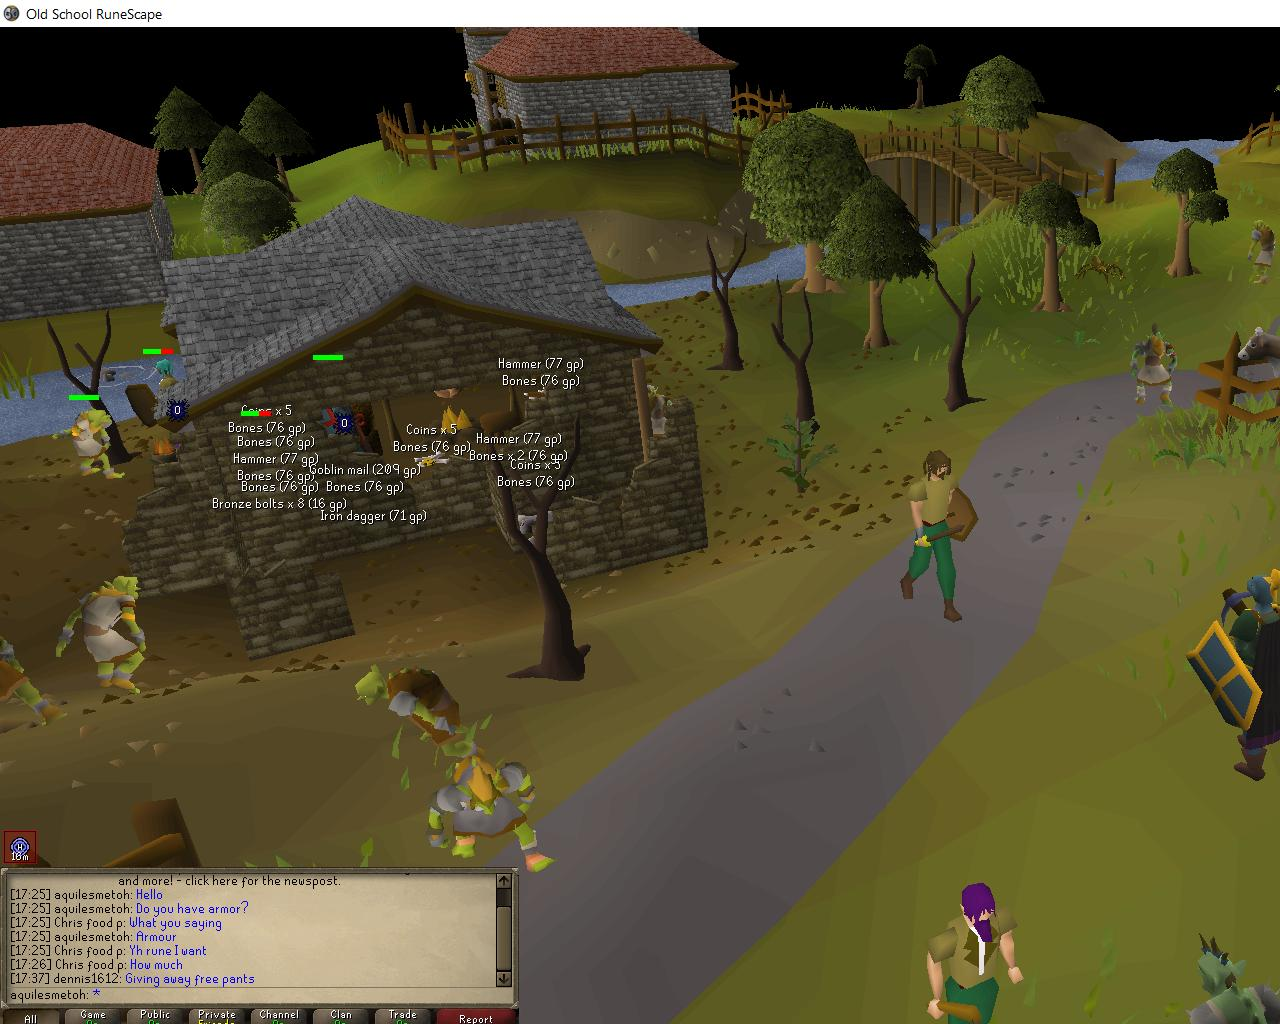Goblin: (413, 754, 562, 872), (339, 658, 476, 754), (53, 571, 152, 695), (1179, 932, 1280, 1024), (52, 405, 127, 483), (1, 631, 63, 723), (1123, 321, 1183, 410), (1243, 218, 1278, 287)
